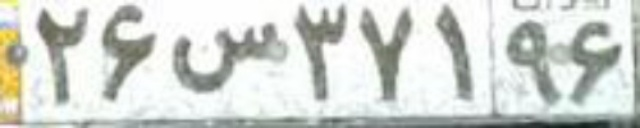1: (431, 4, 471, 98)
2: (32, 7, 89, 103)
3: (293, 3, 352, 102)
6: (95, 4, 156, 103), (567, 21, 621, 103)
7: (355, 3, 417, 103)
9: (504, 21, 558, 104)
sin: (168, 21, 278, 94)
